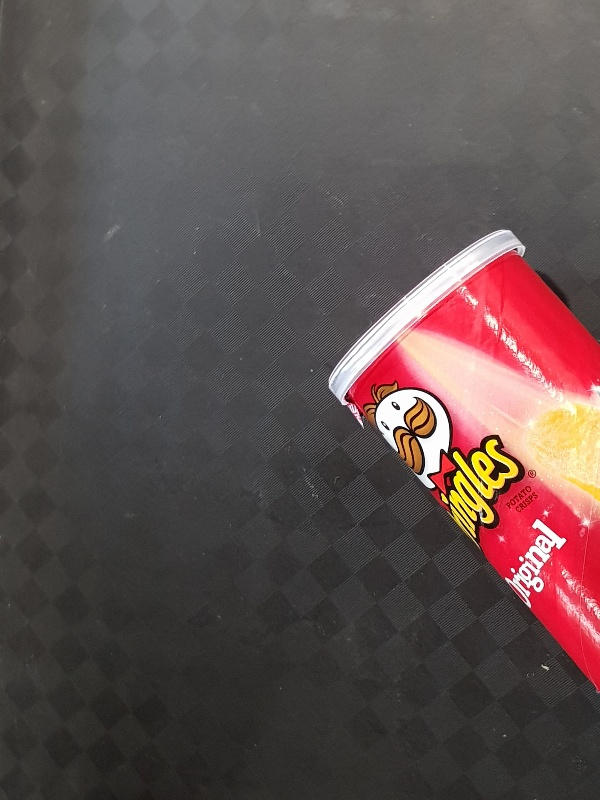Pringles Original: (323, 225, 600, 697)
